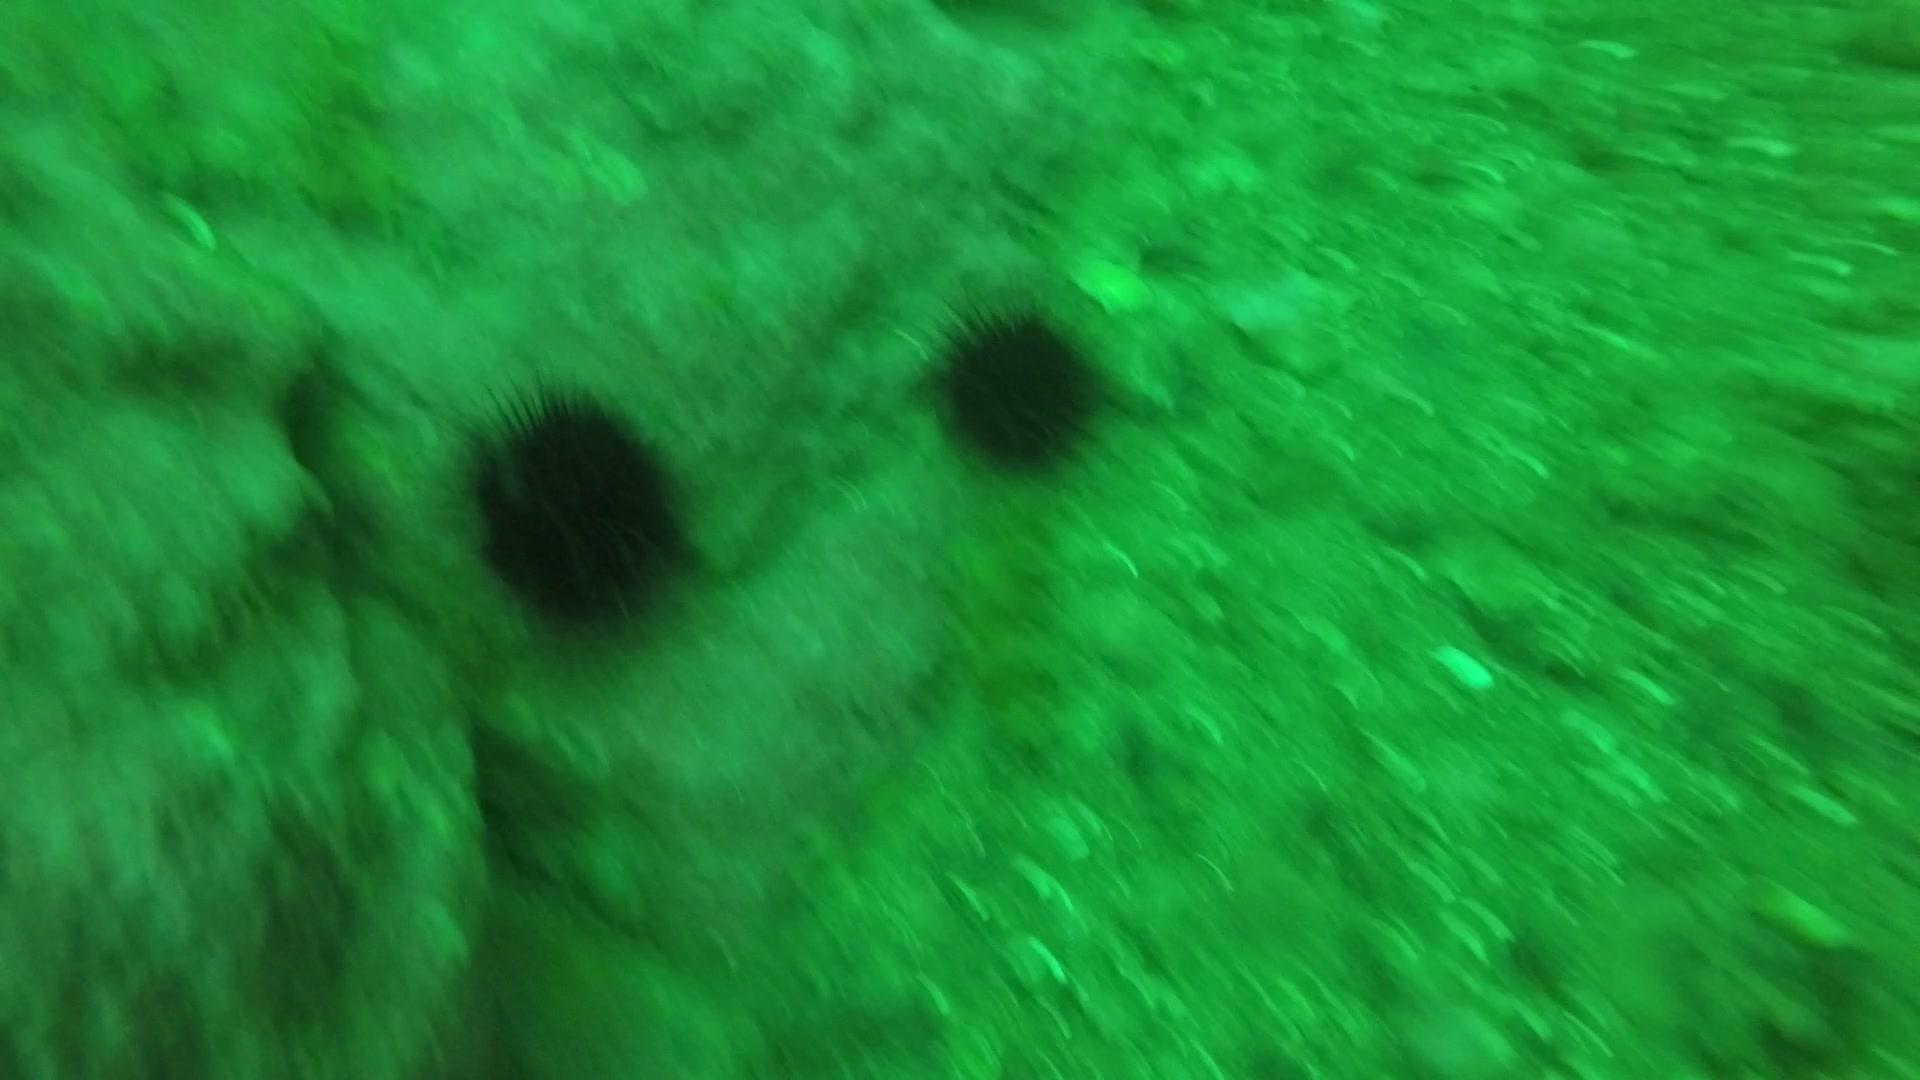echinus: (454, 376, 702, 640), (916, 291, 1117, 479)
